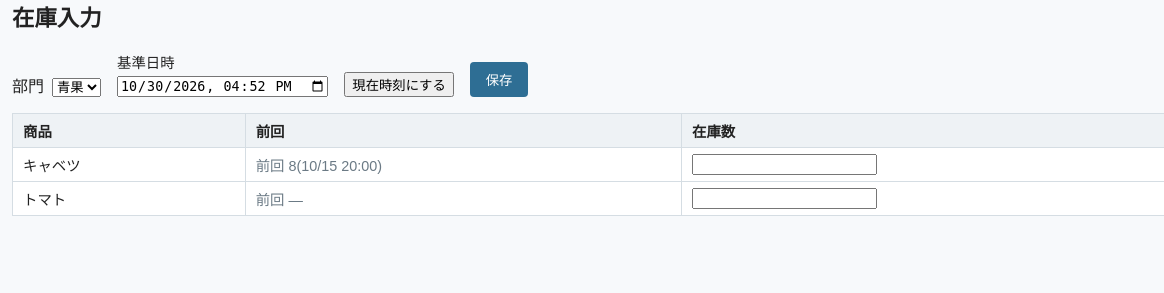
Test: rejects negative quantity on client
Expected: the heading "在庫入力" is shown, [12, 6, 102, 31]
Expected: the text "前回 8(10/15 20:00)" is shown, [245, 147, 682, 181]
Type "-1" into the number field named "キャベツ の在庫数" at (784, 164), box [692, 154, 877, 175]
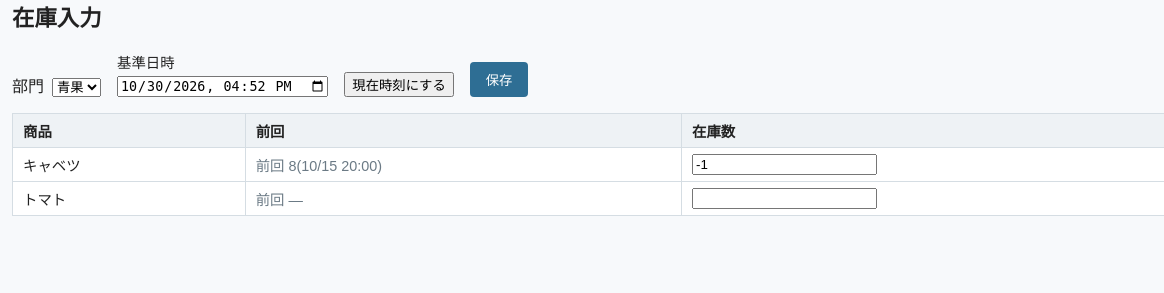
Click the button "保存" at (499, 79), box [470, 62, 528, 97]
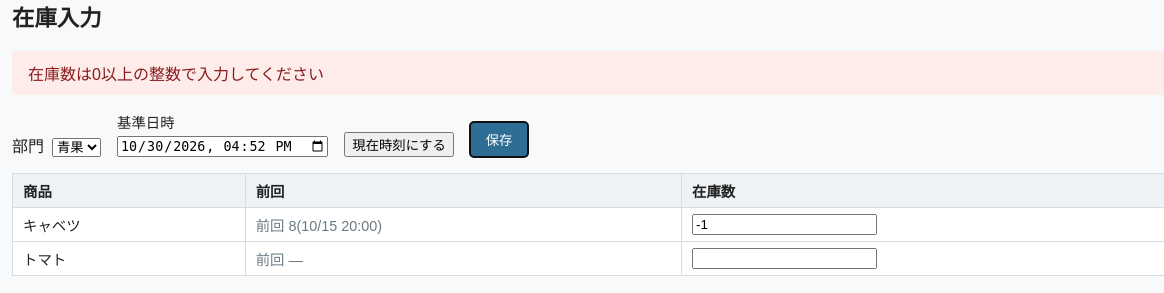
Result: the message reads "在庫数は0以上の整数で入力してください" at [28, 66, 324, 83]
